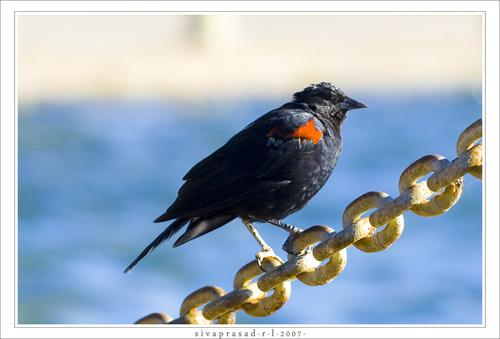010.Red_winged_Blackbird: (123, 83, 368, 274)
